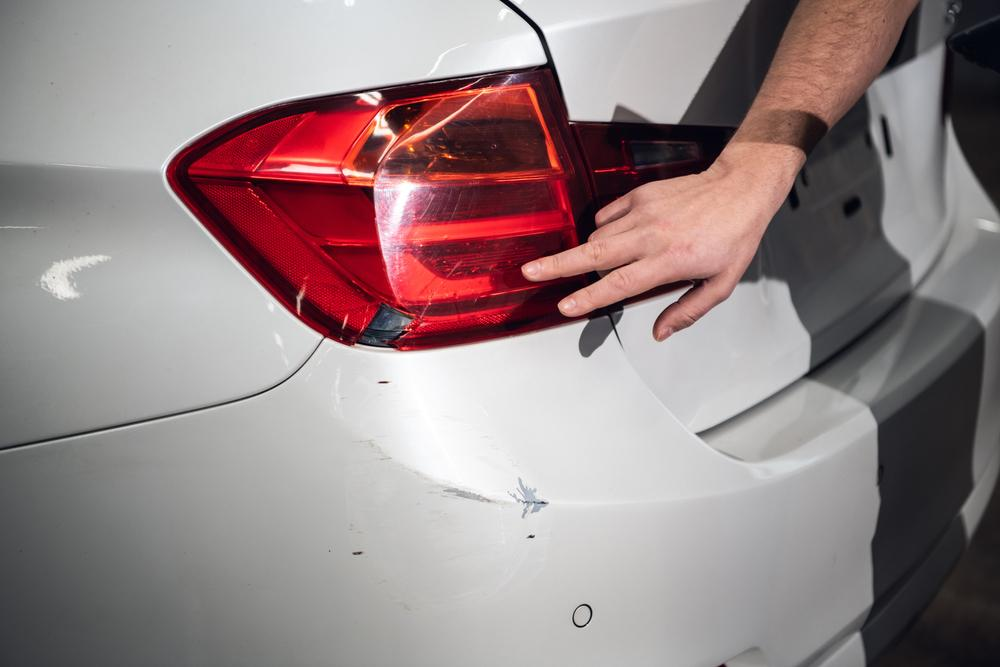lamp broken: (170, 74, 584, 352)
scratch: (445, 481, 553, 519)
